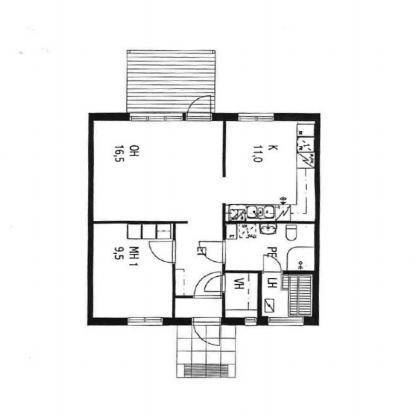bathroom: (223, 224, 319, 271)
door: (188, 314, 224, 348), (183, 92, 218, 126), (193, 269, 228, 300), (196, 238, 229, 269), (141, 239, 181, 264), (258, 252, 287, 276), (202, 276, 230, 294)
perimeter: (87, 113, 322, 324)
window: (128, 109, 187, 125), (233, 107, 280, 125), (263, 314, 309, 330), (120, 314, 169, 327), (242, 315, 260, 328)
